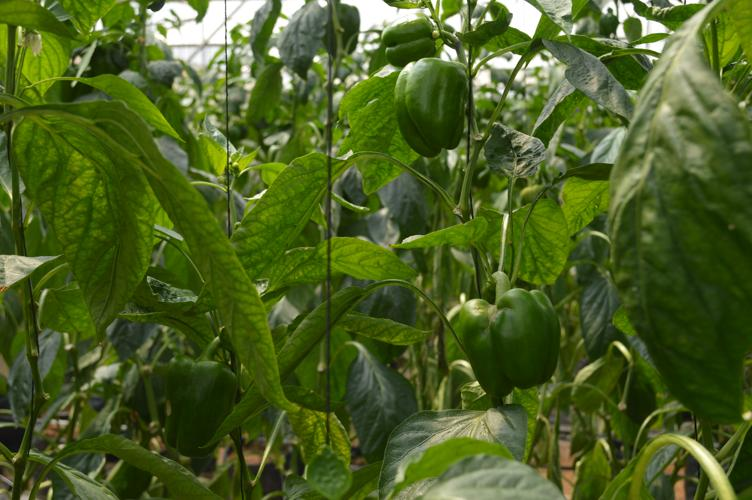BellPepper: (460, 285, 554, 394), (160, 356, 250, 464), (392, 60, 470, 160), (378, 15, 435, 69)
